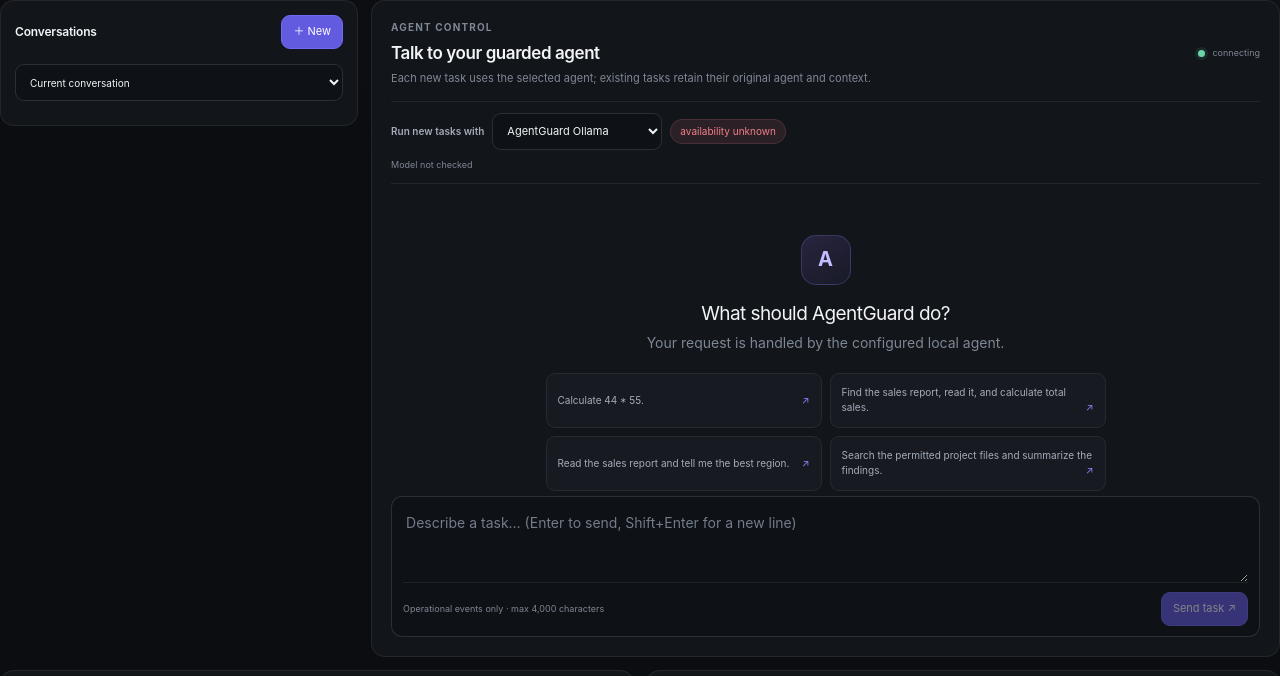
Test: switching back sends Ollama identity, keeping historical tasks distinct
The width and height of the screenshot is (1280, 676).
Select "AgentGuard Ollama" in the dropdown labelled "Run new tasks with": [577, 131] box [492,113,662,150]
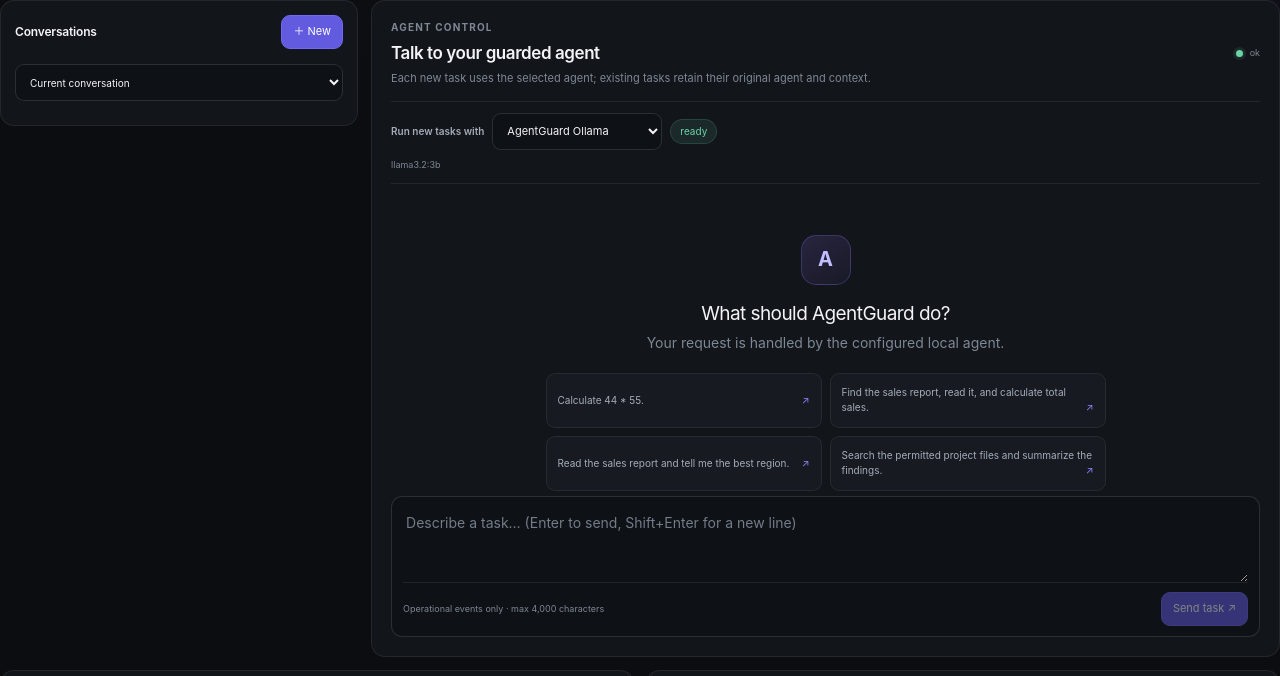
In the text box named "Task for the agent": [826, 544] box [403,507,1248,582], type "Calculate 44 * 55."
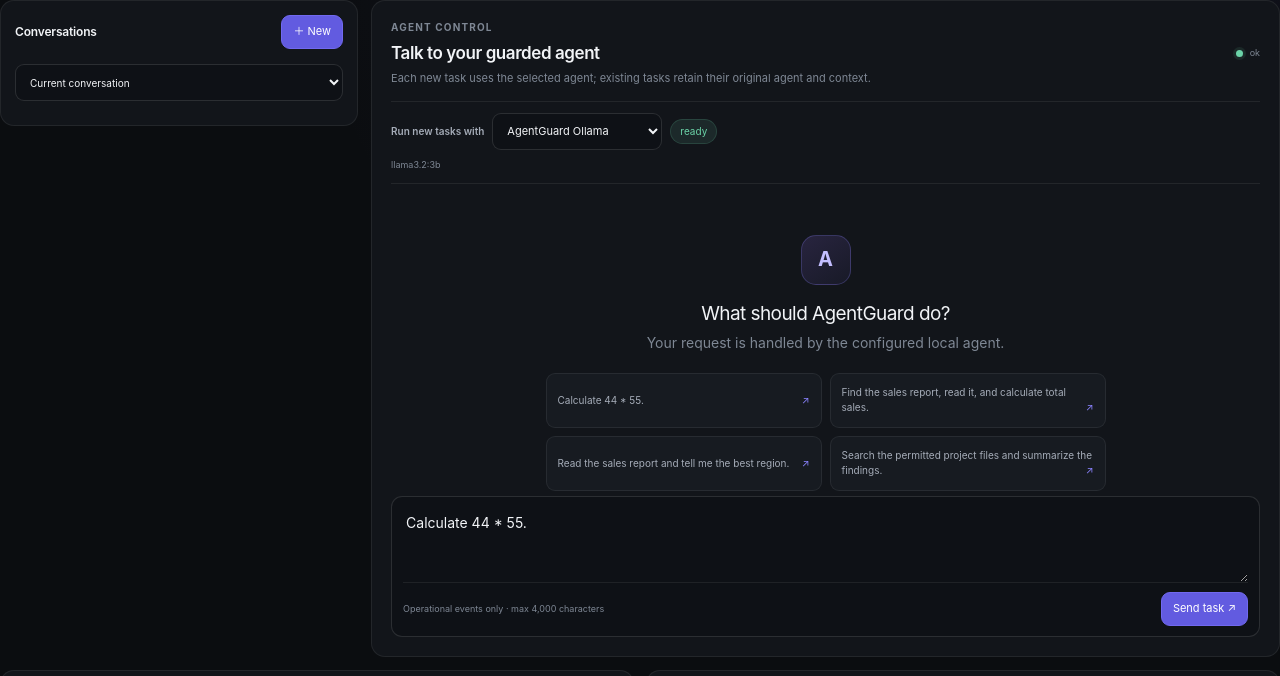
Press Enter in the text box named "Task for the agent", box [403,507,1248,582]
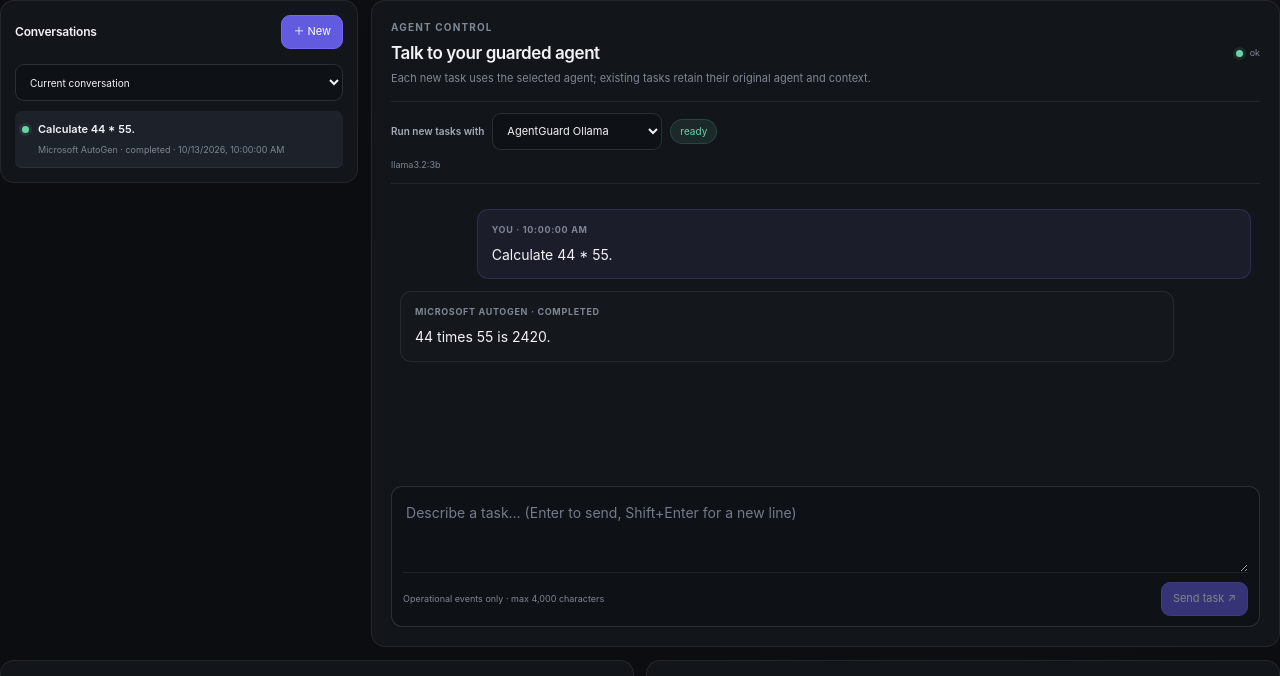
Expected: the text "44 times 55 is 2420." is shown, [415,328,550,345]
